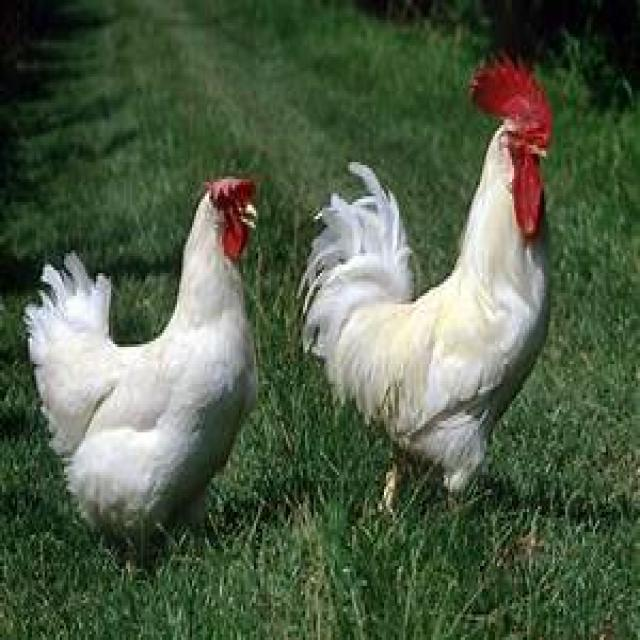hen: (301, 58, 552, 491), (26, 182, 255, 526)
